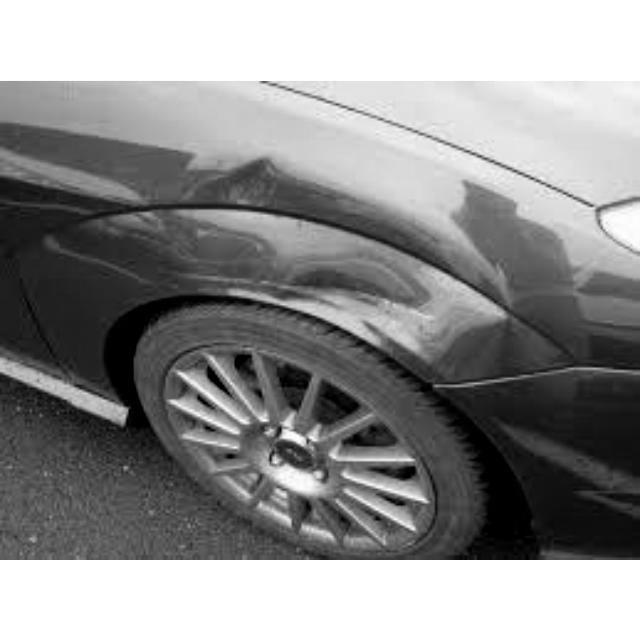fender-dent: (74, 107, 486, 351)
